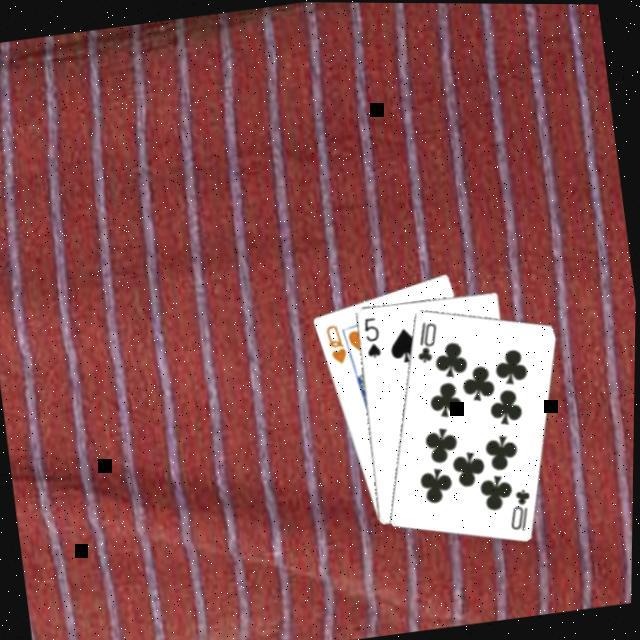10C: (502, 484, 538, 536), (408, 316, 444, 367)
5S: (358, 314, 386, 362)
QH: (321, 320, 352, 369)
